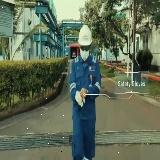Helmet: (78, 23, 94, 48)
